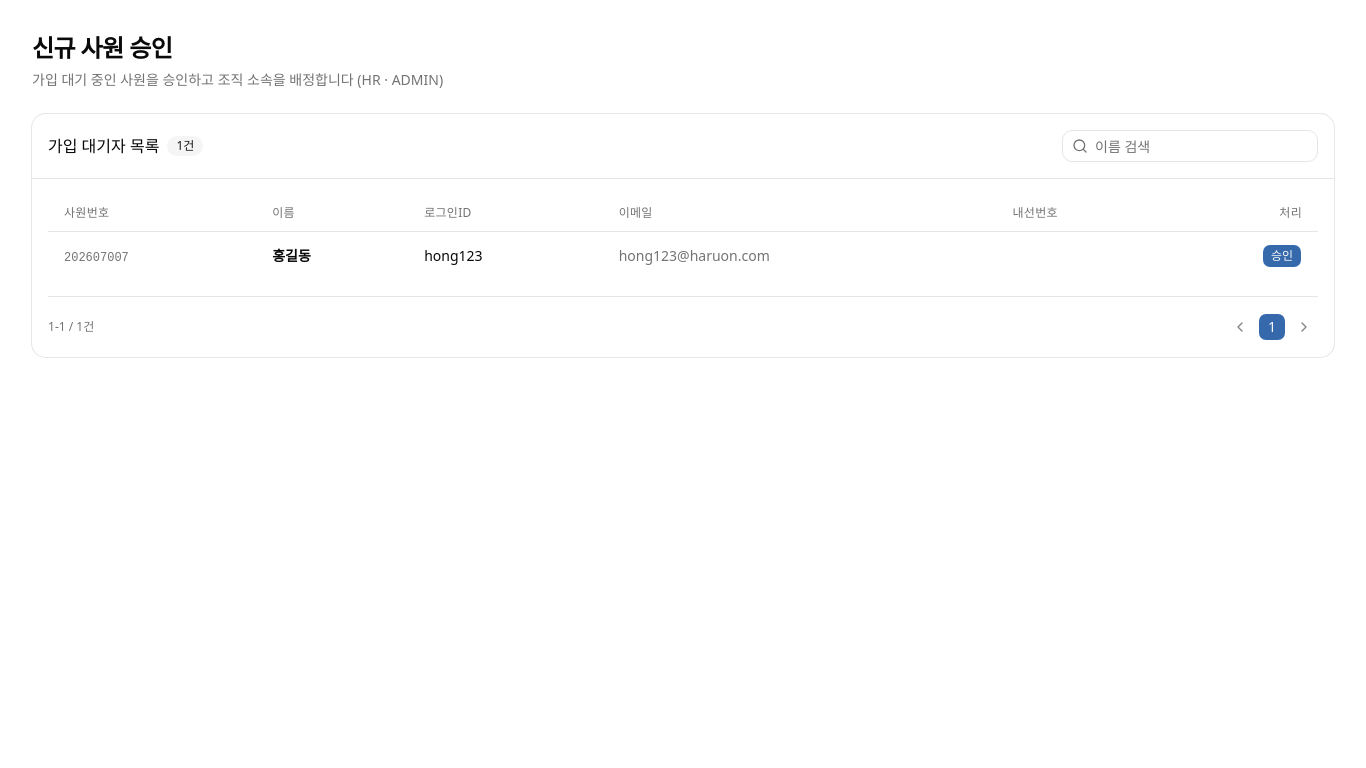
Scenario: NewEmployeeApprovalListPage - 마법사 1→2단계 전이 › 1단계 승인 실패 시 에러 토스트 후 다이얼로그가 닫히고, 목록이 재조회되어 대상이 그대로 남아있다
The width and height of the screenshot is (1366, 768).
Click the button "승인": (1282, 256) 1262,244 -> 1302,268
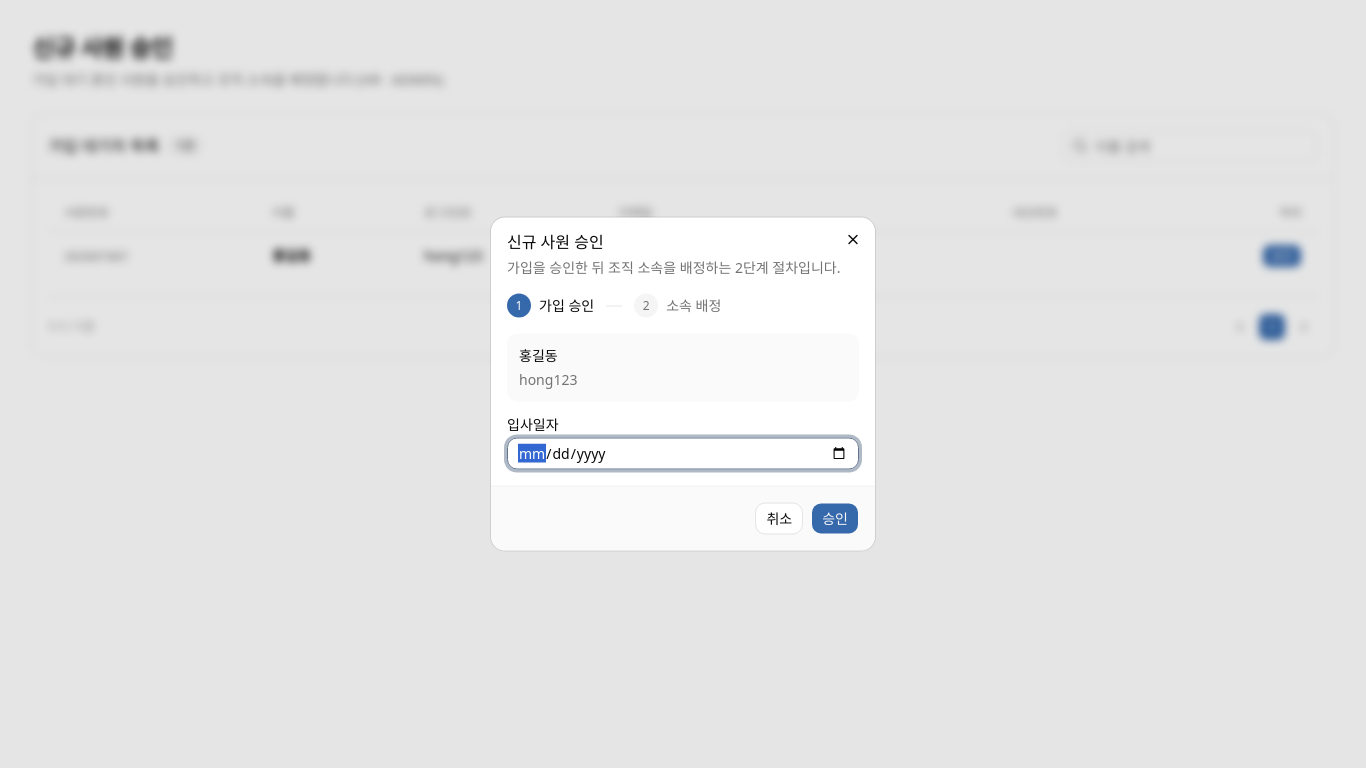
In the date field labelled "입사일자": (683, 454) 507,438 -> 859,470, type "2024-03-05"
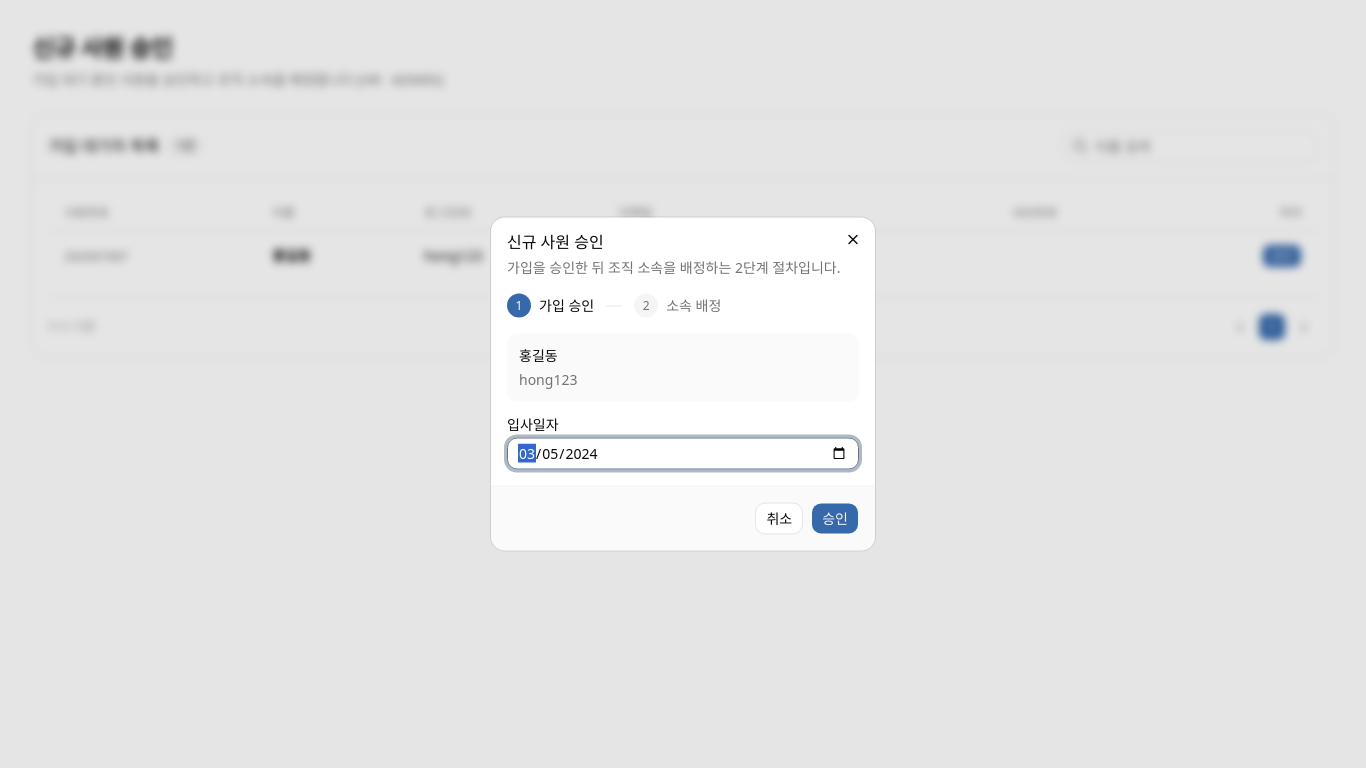
Click the button "승인": (835, 518) 811,502 -> 859,534
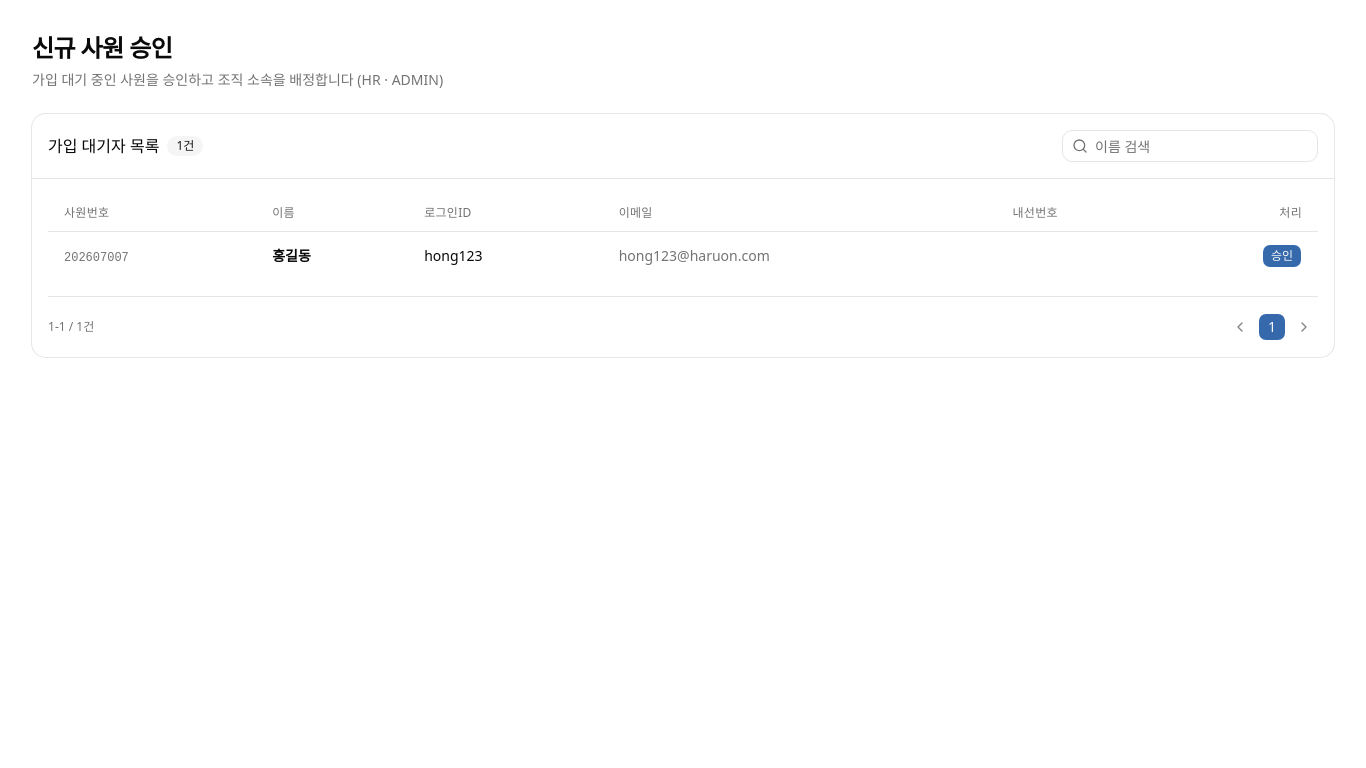
Expected: the text "홍길동" is shown, 272,246 -> 311,265
Expected: the dialog is gone
